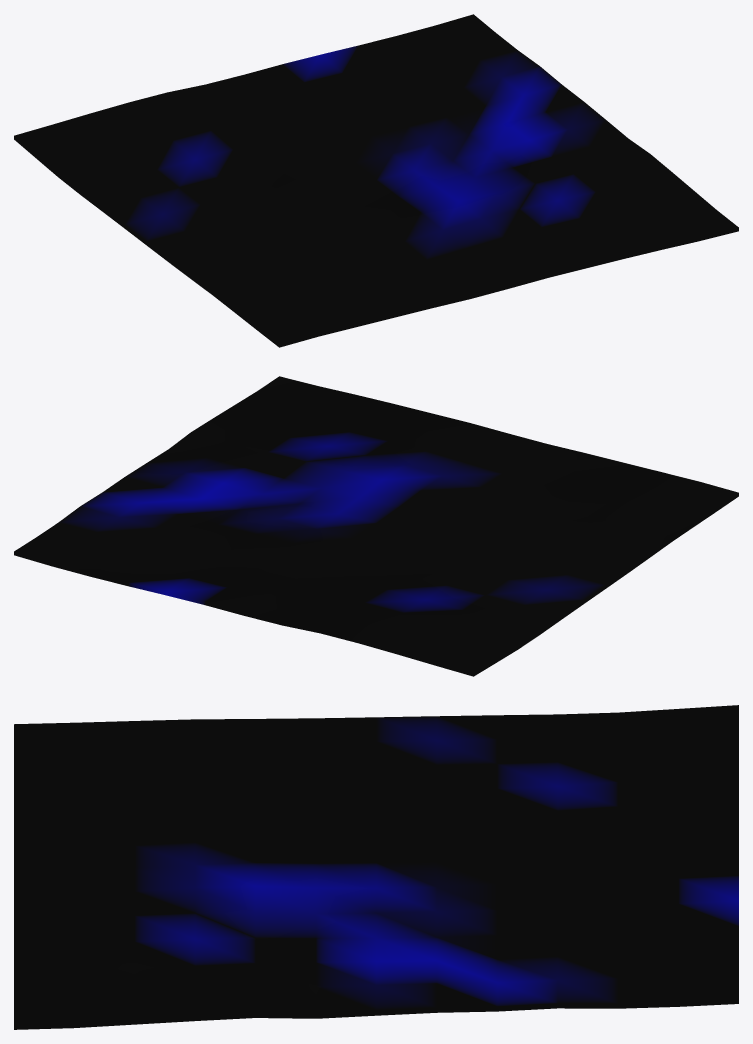
Rendered from coast_2_5.glb.
3 views of the same model, one above another, from view 1: azimuth 30°, elevation 25°; view 2: azimuth 150°, elevation 25°; view 3: azimuth 270°, elevation 25° (orthographic). The views are drawn at different scales.
Visible parts, largest first — view 1: terrain; view 2: terrain; view 3: terrain.
Boxes of the visible parts, x1,y1,x2,y2 form: terrain: (14, 14, 738, 347); terrain: (14, 376, 738, 676); terrain: (14, 705, 738, 1029).
Size of the model in its own units: 192 by 10.78 by 192.
